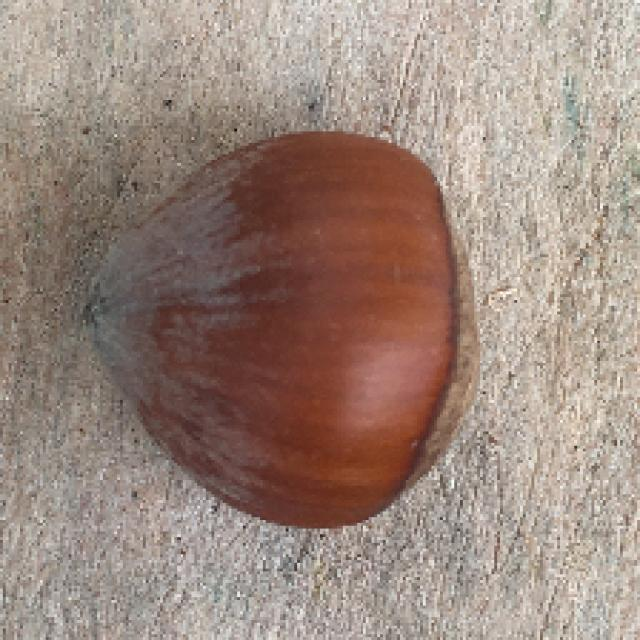QualityHazelnut: (86, 130, 481, 535)
